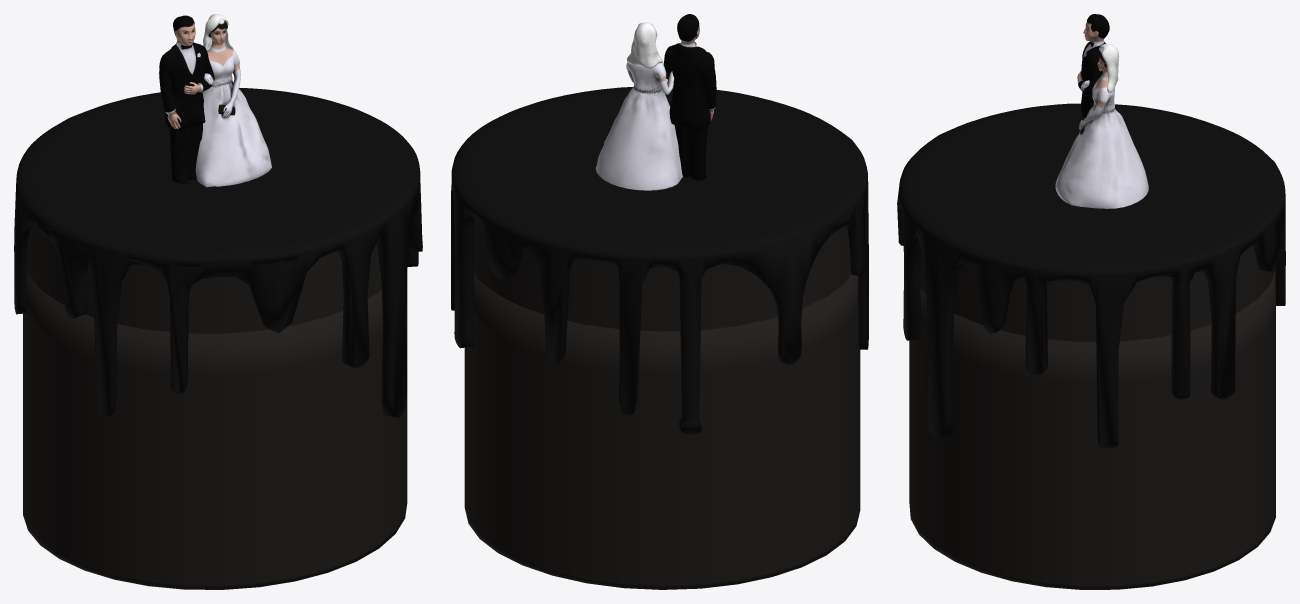
File: 1-tier-black-ganache-bridegroom.glb
The picture shows the model from 3 angles, left to right: view 1: azimuth 30°, elevation 25°; view 2: azimuth 150°, elevation 25°; view 3: azimuth 270°, elevation 25°; orthographic projection. The views are drawn at different scales.
Visible parts, largest first — view 1: Cylinder.019, tHE ICING, 13501_Cake_Topper_Bride_Groom_v1_L1.004; view 2: Cylinder.019, tHE ICING, 13501_Cake_Topper_Bride_Groom_v1_L1.004; view 3: Cylinder.019, tHE ICING, 13501_Cake_Topper_Bride_Groom_v1_L1.004.
Boxes of the visible parts, x1,y1,x2,y2 form: Cylinder.019: (23,226,407,589); tHE ICING: (14,88,422,417); 13501_Cake_Topper_Bride_Groom_v1_L1.004: (159,14,271,187); Cylinder.019: (464,219,860,589); tHE ICING: (451,87,868,434); 13501_Cake_Topper_Bride_Groom_v1_L1.004: (595,14,716,190); Cylinder.019: (909,246,1275,589); tHE ICING: (897,103,1285,448); 13501_Cake_Topper_Bride_Groom_v1_L1.004: (1055,14,1148,208).
Bounding box in the file's own units: 2.8 × 3.7 × 2.71.
Materials: 3 (1 with a texture image).
